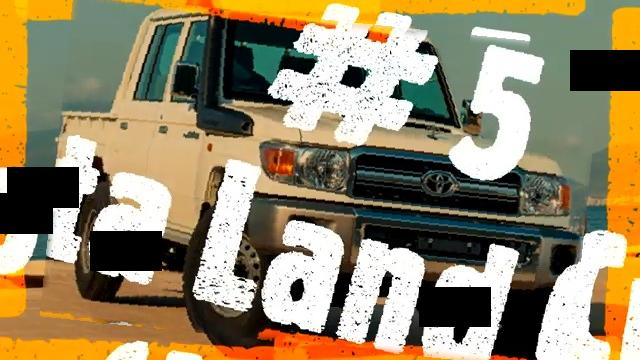MIL_HMMWV: (47, 6, 596, 357)
